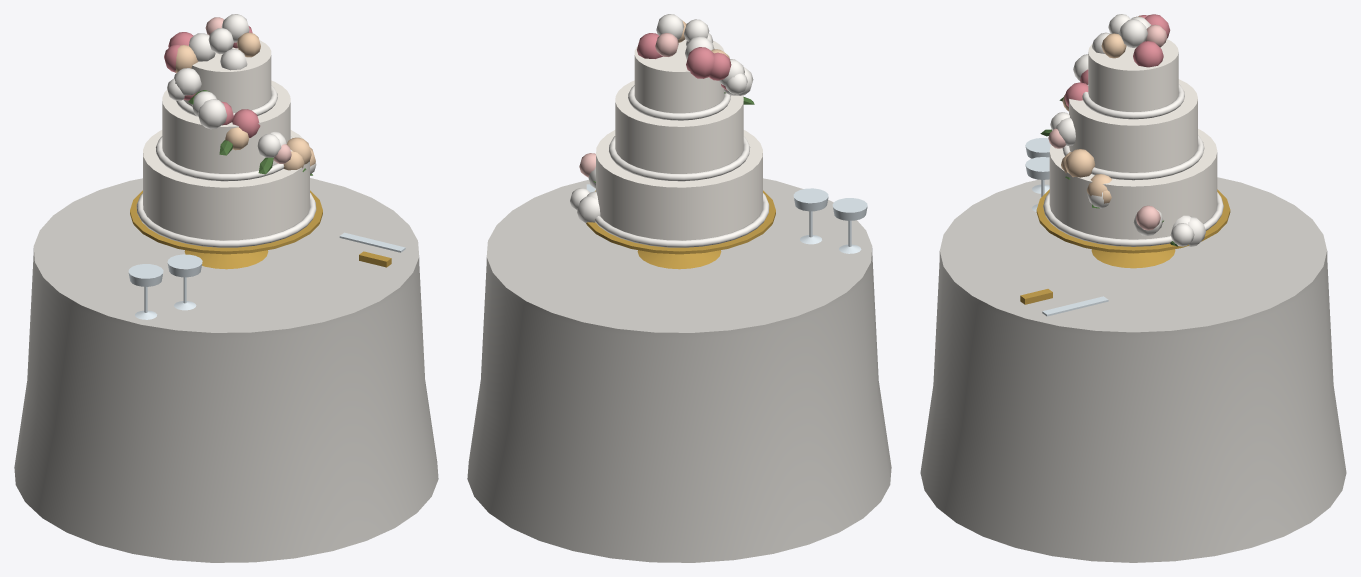
Rendered from cake.glb.
3 renders of one model, left to right at view 1: azimuth 30°, elevation 25°; view 2: azimuth 150°, elevation 25°; view 3: azimuth 270°, elevation 25°, orthographic.
Parts seen in each view (by area): view 1: linen51, icing0, icing2, icing4, gold52, flowerWhite1, flowerWhite3, crystal64, crystal63, flowerWhite37, flowerWhite42, flowerRose32 (+2 smaller); view 2: linen51, icing0, icing2, icing4, gold52, flowerWhite1, flowerWhite3, flowerWhite5, crystal64, crystal63, flowerRose46; view 3: linen51, icing0, icing2, icing4, gold52, flowerWhite1, flowerWhite3, flowerWhite5, flowerPeach23, flowerRose58, flowerWhite53, crystal64 (+1 smaller).
Part boxes in pixels (x1,y1,x2,y2): linen51: [14, 178, 438, 562]; icing0: [143, 130, 309, 240]; icing2: [162, 80, 290, 173]; icing4: [183, 40, 271, 112]; gold52: [130, 190, 322, 269]; flowerWhite1: [136, 193, 316, 247]; flowerWhite3: [155, 136, 292, 181]; crystal64: [167, 254, 202, 310]; crystal63: [128, 264, 163, 319]; flowerWhite37: [198, 99, 227, 129]; flowerWhite42: [174, 68, 201, 95]; flowerRose32: [232, 109, 260, 137]; linen51: [467, 178, 891, 562]; icing0: [596, 130, 762, 240]; icing2: [615, 80, 743, 173]; icing4: [634, 39, 724, 113]; gold52: [586, 190, 775, 269]; flowerWhite1: [594, 193, 769, 247]; flowerWhite3: [609, 136, 750, 181]; flowerWhite5: [628, 85, 730, 120]; crystal64: [793, 188, 828, 244]; crystal63: [832, 198, 867, 253]; flowerRose46: [686, 47, 714, 78]; linen51: [920, 177, 1346, 562]; icing0: [1049, 129, 1217, 239]; icing2: [1069, 79, 1197, 172]; icing4: [1088, 39, 1178, 111]; gold52: [1036, 189, 1230, 268]; flowerWhite1: [1043, 192, 1223, 246]; flowerWhite3: [1062, 135, 1204, 180]; flowerWhite5: [1082, 84, 1184, 119]; flowerPeach23: [1064, 149, 1095, 177]; flowerRose58: [1133, 41, 1163, 67]; flowerWhite53: [1119, 19, 1147, 47]; crystal64: [1025, 157, 1049, 211].
Bounding box in the file's own units: 1.32 × 1.56 × 1.32.
